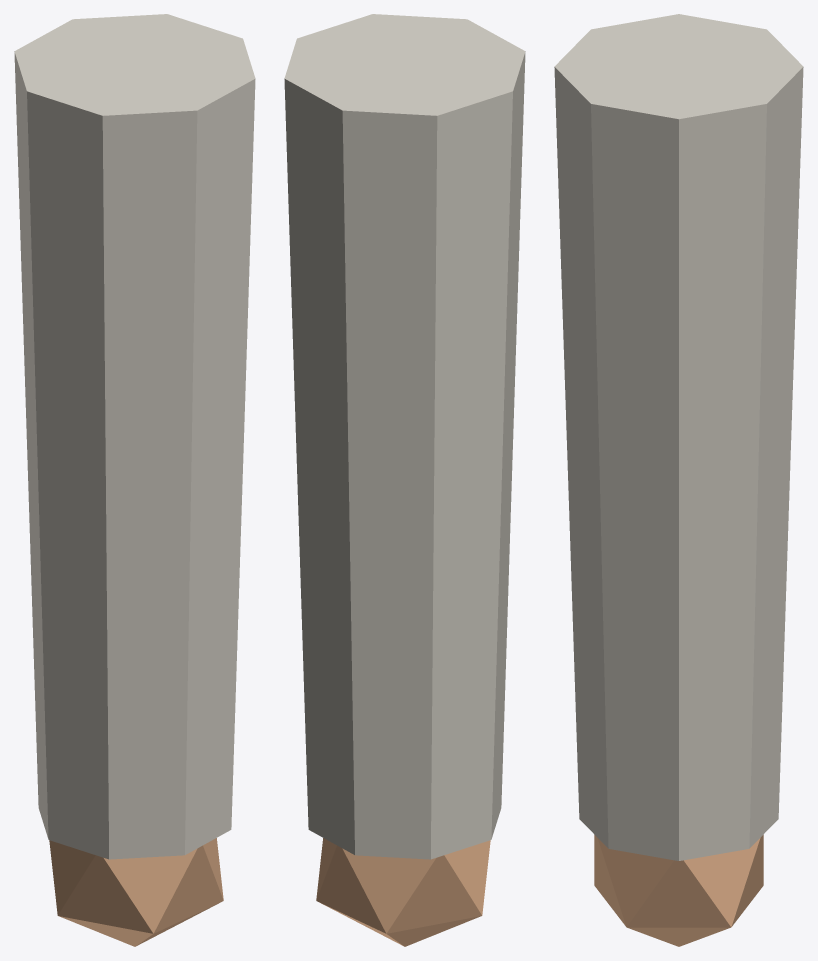
Rendered from insan_k1s_kol.glb.
3 views of the same model, side by side, from view 1: azimuth 30°, elevation 25°; view 2: azimuth 150°, elevation 25°; view 3: azimuth 270°, elevation 25° (orthographic).
Parts seen in each view (by area): view 1: Cone; view 2: Cone; view 3: Cone.
Boxes of the visible parts, box(x1,y1,x2,y2) form: Cone: box(14, 14, 255, 946); Cone: box(284, 14, 525, 946); Cone: box(554, 14, 803, 946).
Bounding box in the file's own units: 0.03 × 0.117 × 0.03.
